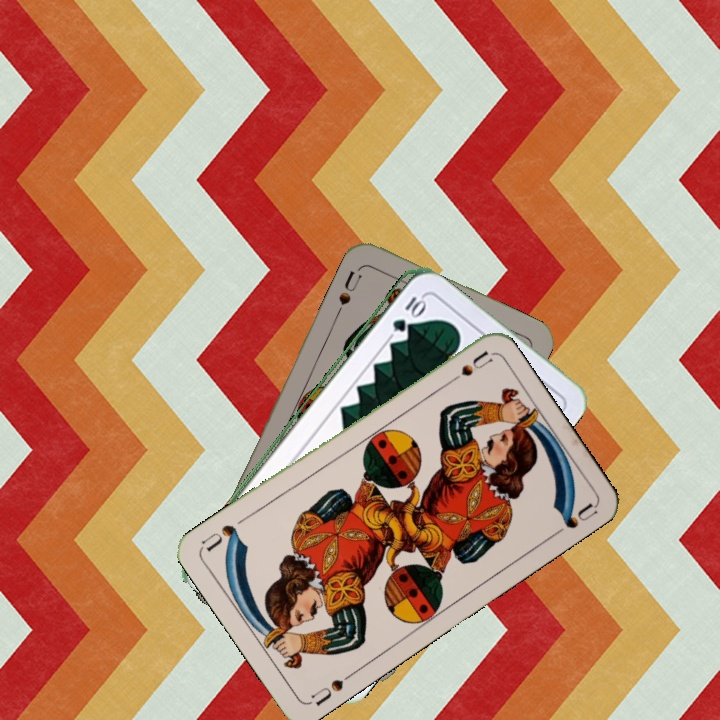G10: (388, 291, 427, 335)
SU: (440, 347, 495, 390), (306, 667, 358, 709), (334, 266, 365, 308)
